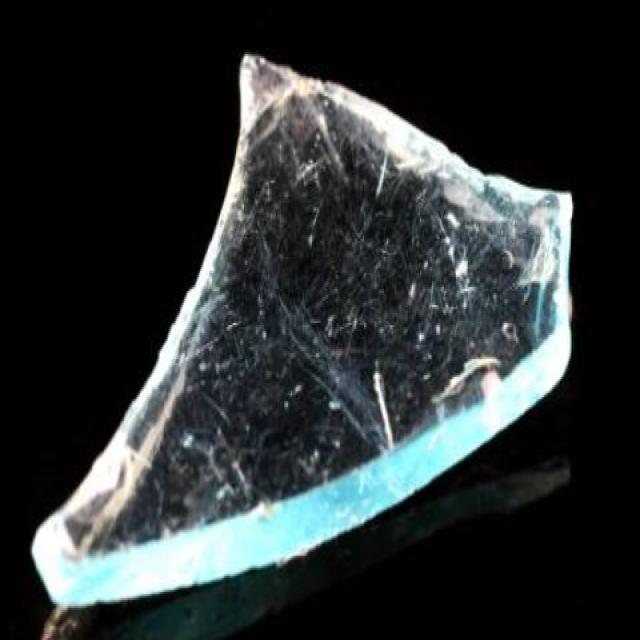electronic: (28, 55, 577, 612)
